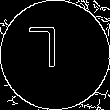L_S: (40, 30, 70, 80)
